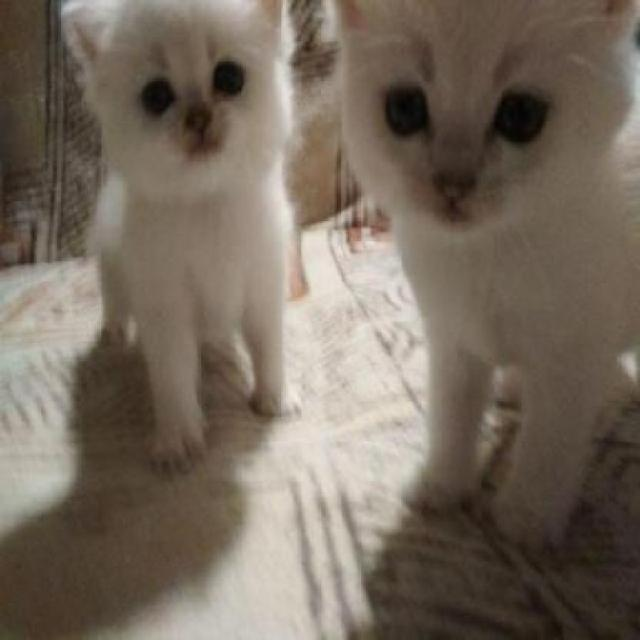cat: (335, 0, 638, 532), (49, 0, 329, 449)
